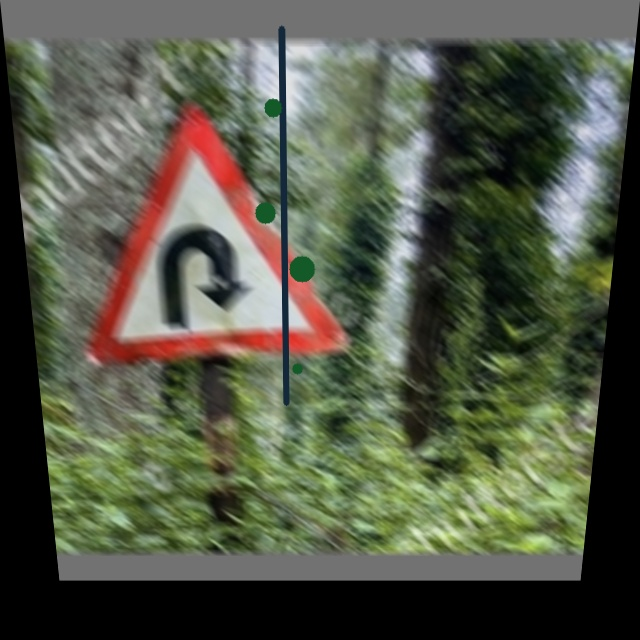Right_Hair_Pin_Bend: (68, 102, 349, 351)
